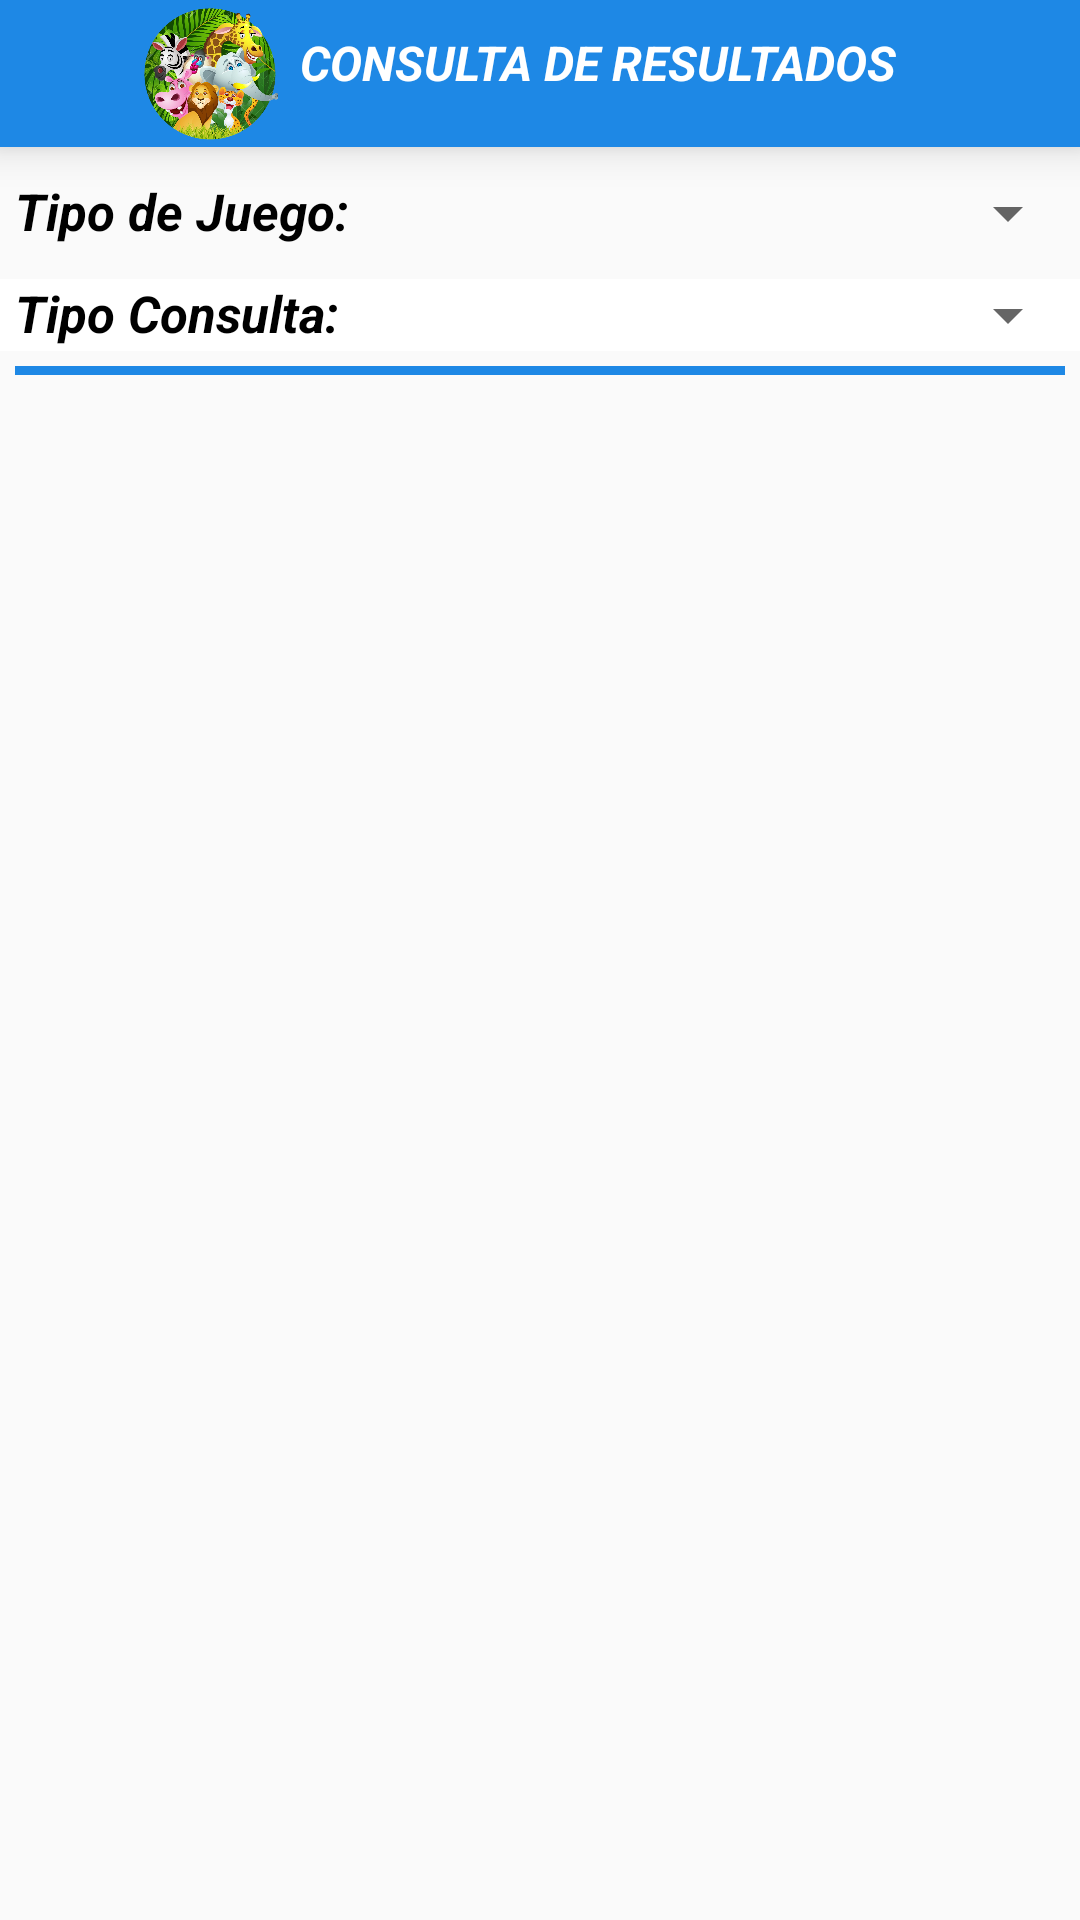

Named icons in this screenshot (1080px x 1920px) and their centers, (x=x, y=y):
animal: (x=211, y=74)
